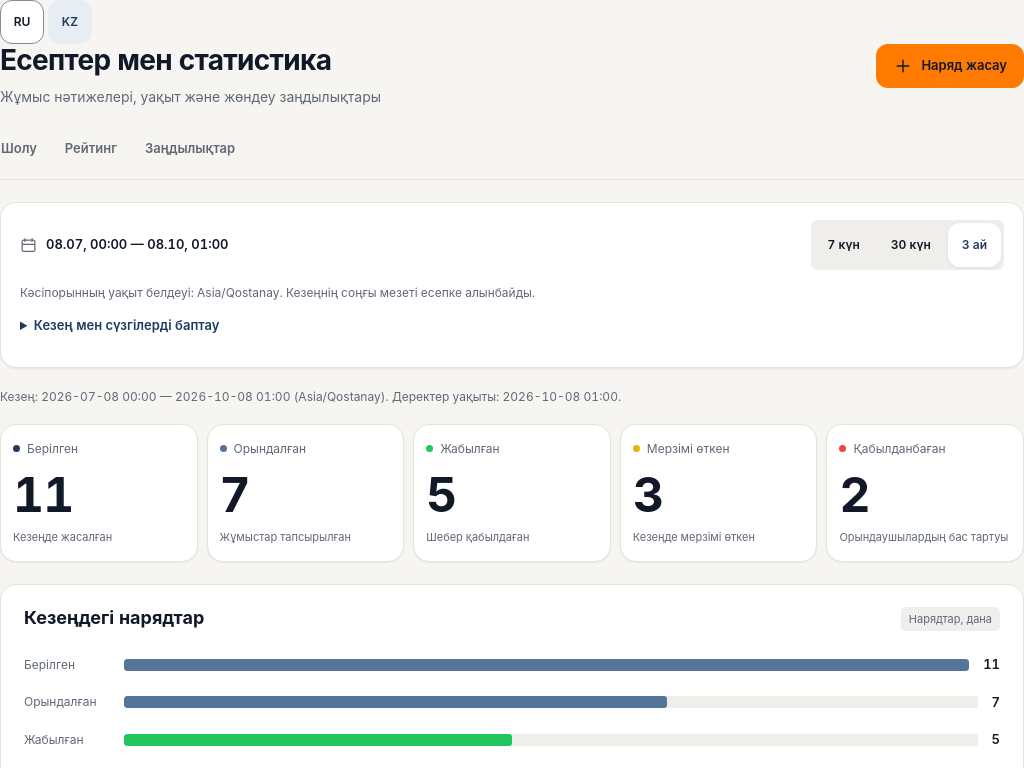
Test: localizes the canonical shift summary and known limitations and restores original RU text
Click the button "RU" at (22, 22), box x1=0 y1=0 x2=44 y2=44
(page scrolled)
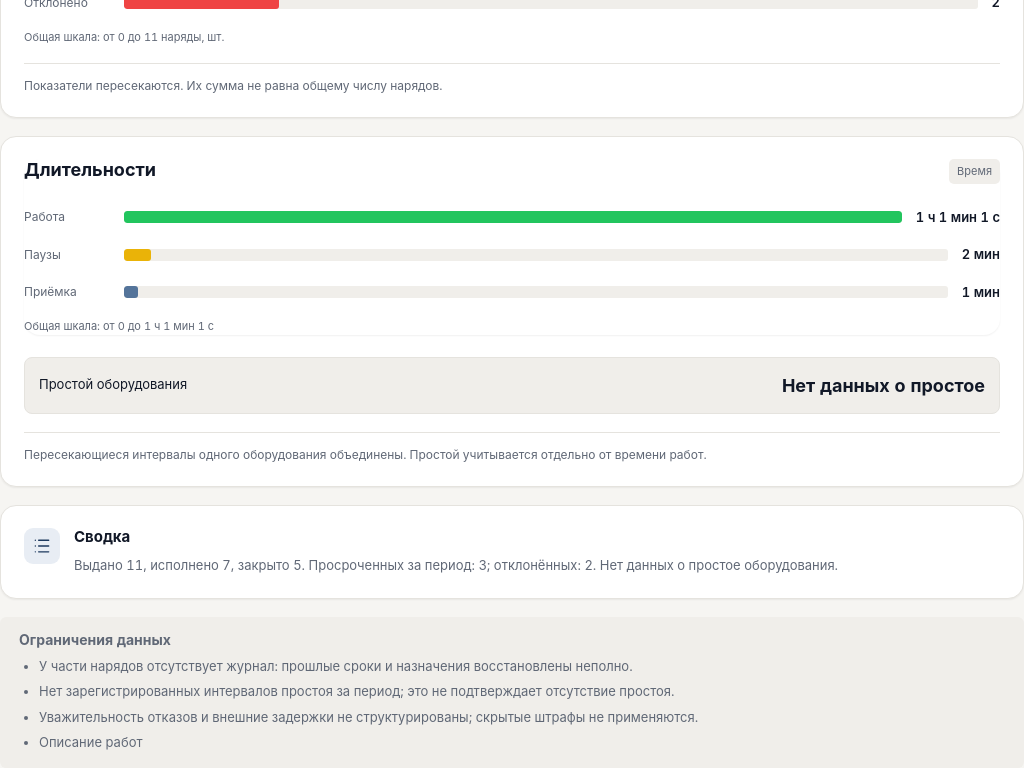
Now the text "Выдано 11, исполнено 7, закрыто 5. Просроченных за период: 3; отклонённых: 2. Нет данных о простое оборудования." is shown, box x1=74 y1=557 x2=838 y2=573
Now the 1st list item shows "У части нарядов отсутствует журнал: прошлые сроки и назначения восстановлены неполно.", box x1=39 y1=658 x2=633 y2=674
